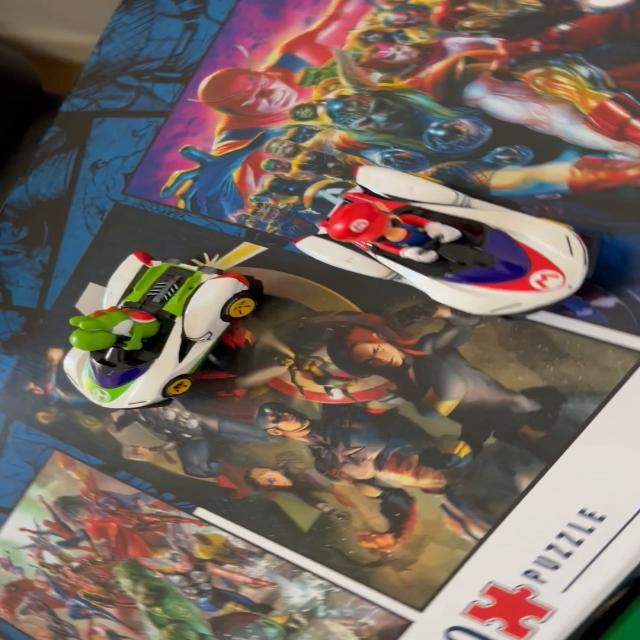mario: (290, 155, 624, 321)
yoshi: (37, 228, 273, 427)
